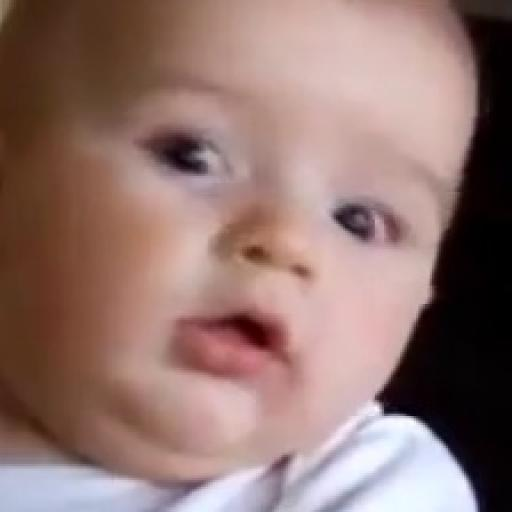Autism: (44, 12, 479, 484)
